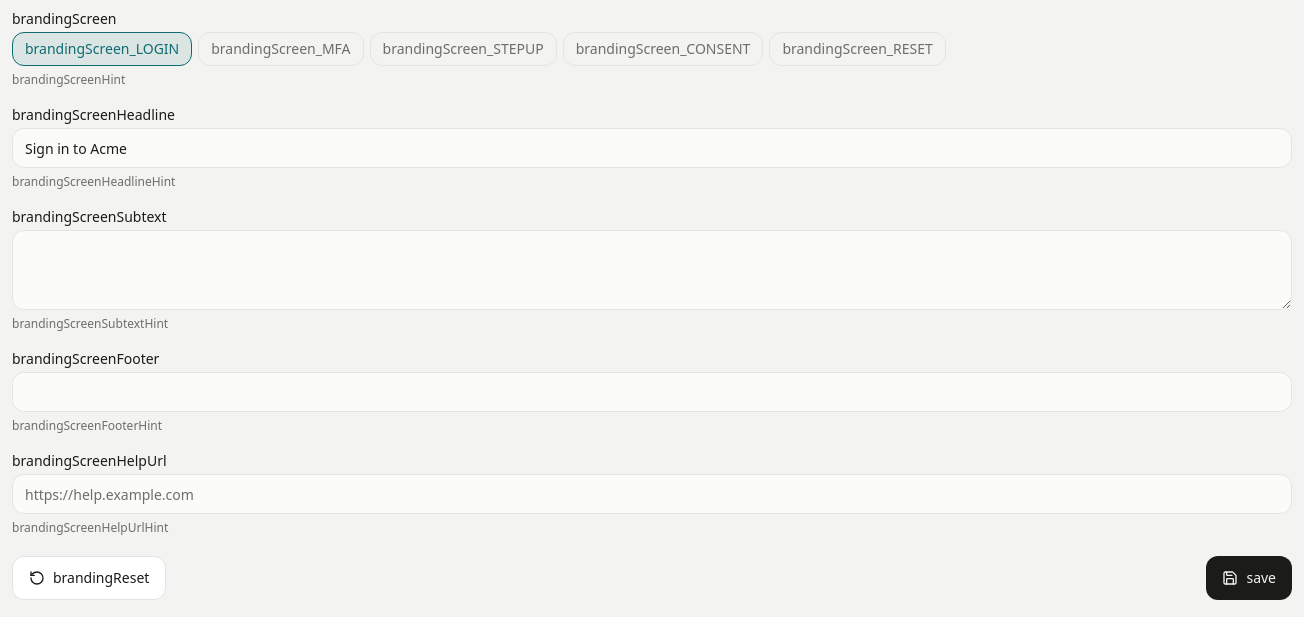
Scenario: ScreenCopyEditor › swaps the form to the selected screen's own wording
Expected: the field showing "Sign in to Acme" is shown, 12,128 -> 1292,168
Click the radio button labelled "brandingScreen_MFA" at (281, 49), box 198,32 -> 364,66
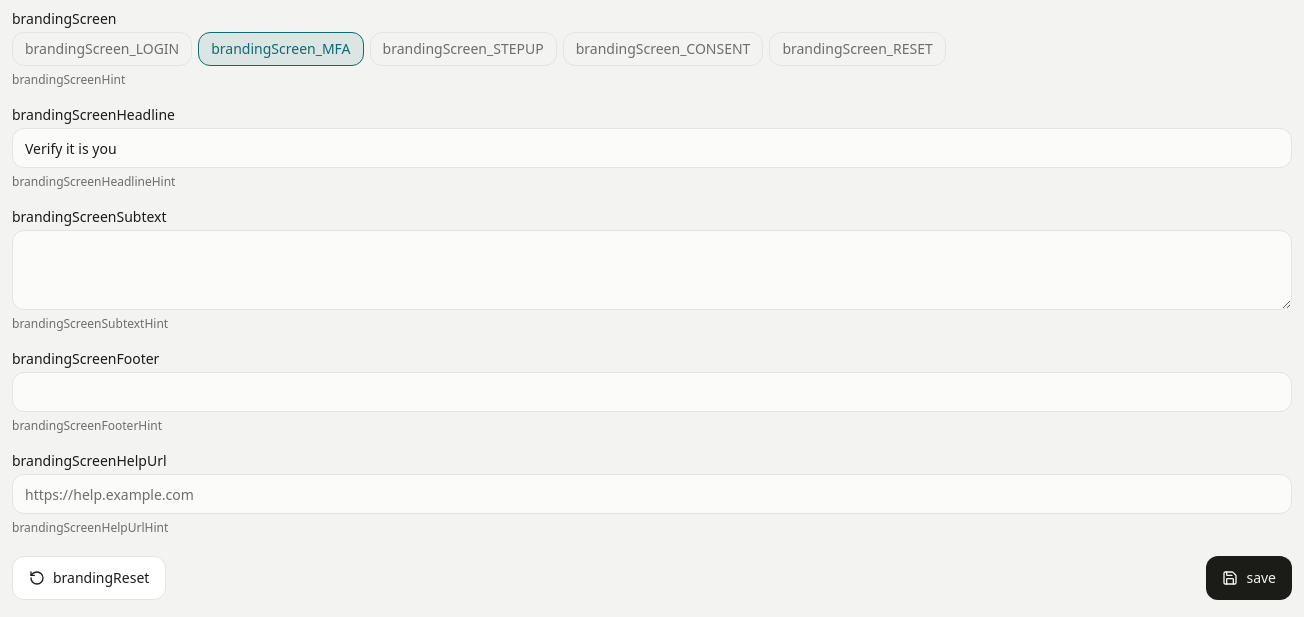
Expected: the field showing "Sign in to Acme" is not shown
Expected: the field showing "Verify it is you" is shown, 12,128 -> 1292,168
